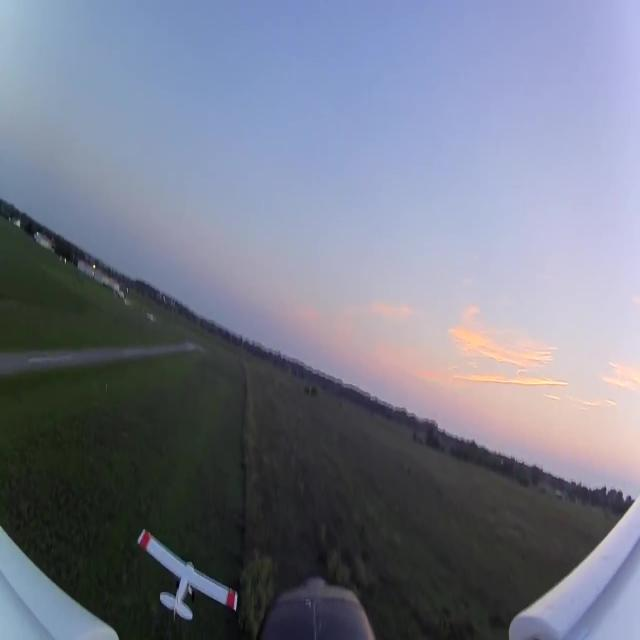iha: (168, 555, 207, 591)
